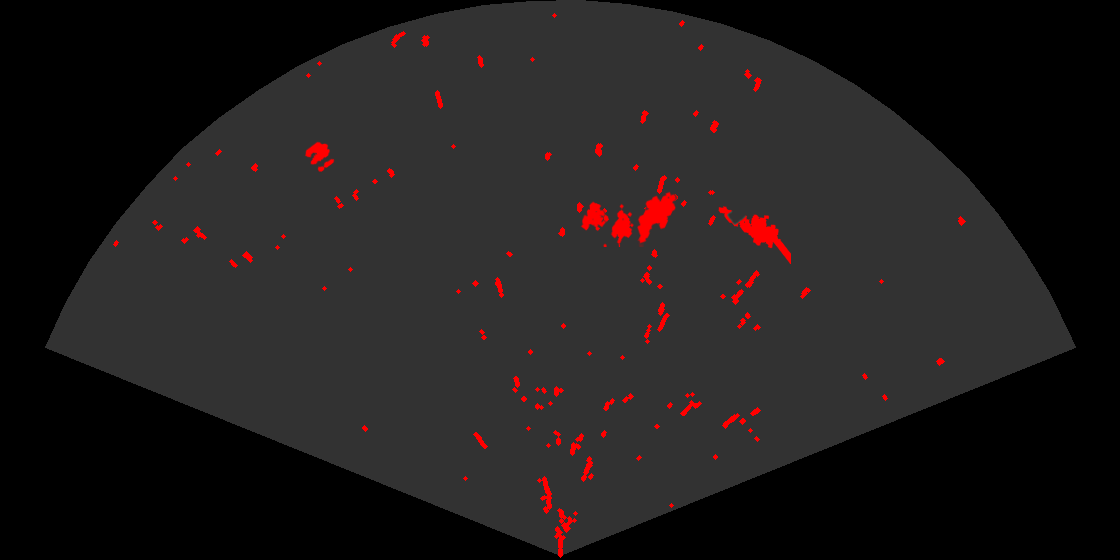AUV: (635, 190, 678, 245)
ball: (303, 140, 336, 173)
cage: (579, 200, 644, 247)
frogman: (717, 205, 791, 264)
